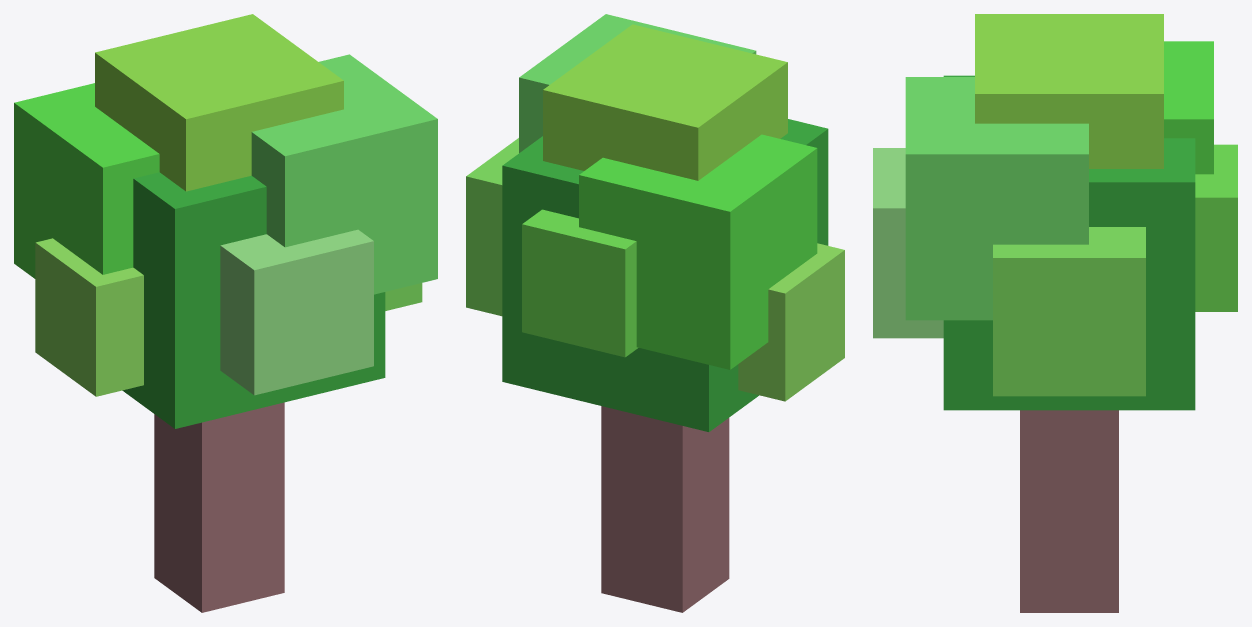
The model's file is Tree.fbx.
3 renders of one model, left to right at view 1: azimuth 30°, elevation 25°; view 2: azimuth 150°, elevation 25°; view 3: azimuth 270°, elevation 25°, orthographic. The views are drawn at different scales.
Parts seen in each view (by area): view 1: Cube.003; view 2: Cube.003; view 3: Cube.003.
Part boxes in pixels (bbox=[...]): Cube.003: bbox=[14, 14, 437, 612]; Cube.003: bbox=[466, 14, 844, 612]; Cube.003: bbox=[873, 14, 1237, 612].
Size of the model in its own units: 255 by 397 by 244.
